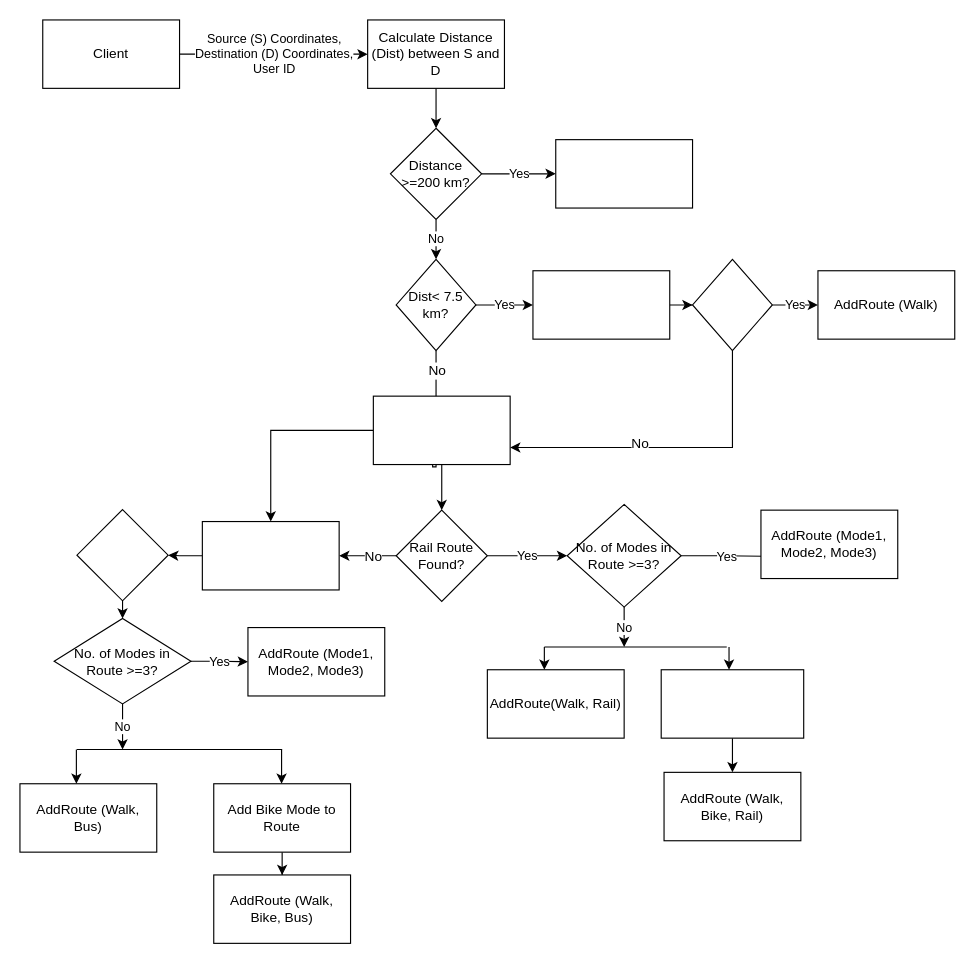
Some shapes in this 975 by 963 pixel diagram are drawn without their labels. Each missing label, with the centre of its shape:
"AddRoute (Bicycle, Walk)" belongs at point 601,304.
"Append Bike Mode to Route" belongs at point 732,703.
"Bus Route Found?" belongs at point 122,554.
"Dist< 2.5 km?" belongs at point 731,304.
"Error" belongs at point 624,173.
"Fetch Route with Bus from Maps API" belongs at point 270,555.
"Fetch Route with Rail from Maps API" belongs at point 441,430.
